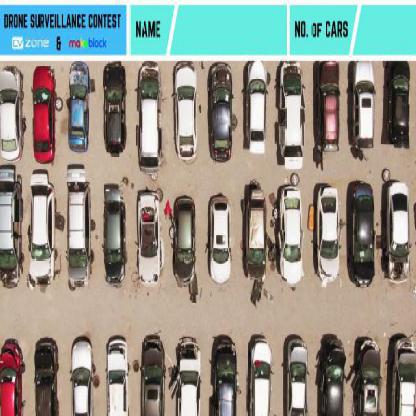car: (68, 173, 94, 283), (351, 179, 375, 287), (317, 56, 343, 151), (280, 70, 304, 172), (387, 178, 411, 277), (32, 67, 56, 165), (317, 187, 341, 284), (319, 337, 349, 413), (103, 65, 128, 156), (175, 67, 199, 161), (139, 185, 163, 279), (174, 340, 204, 415), (352, 341, 382, 415), (212, 69, 235, 165), (139, 73, 163, 164), (210, 340, 239, 415), (207, 194, 231, 284), (105, 190, 127, 285), (68, 67, 92, 154), (31, 188, 53, 282), (174, 197, 196, 291), (387, 64, 411, 150), (0, 70, 22, 162), (248, 191, 270, 281), (281, 196, 303, 284), (35, 341, 61, 415), (285, 341, 311, 415), (141, 334, 166, 409), (107, 338, 131, 416), (251, 341, 275, 415), (70, 341, 94, 415), (247, 72, 268, 154), (393, 342, 416, 415), (2, 340, 24, 415), (356, 72, 376, 152), (71, 61, 89, 95)
